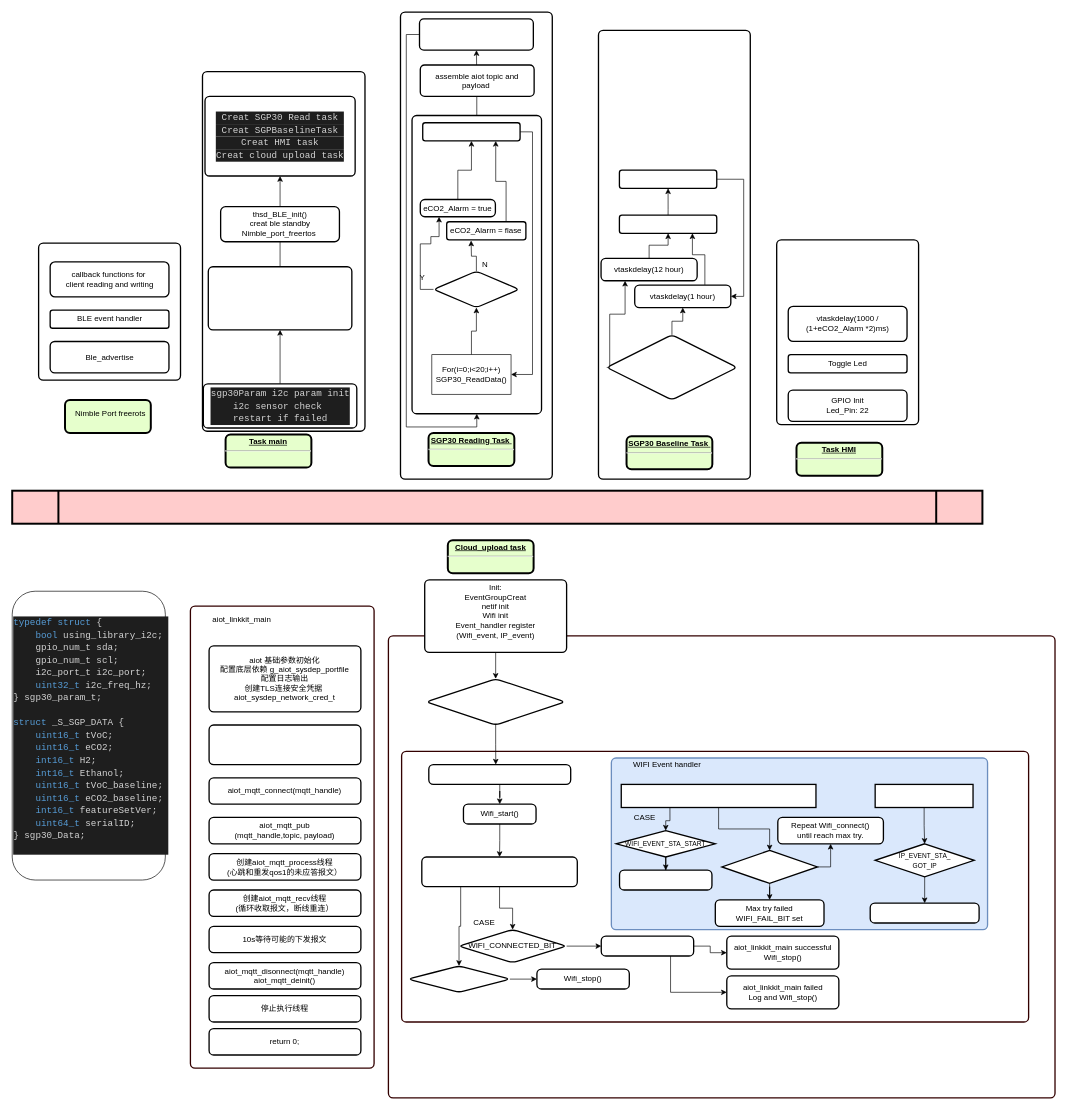
Some shapes in this 1067 by 1109 pixel diagram are drawn without their labels. Here are the shapes that lost their labels. From the top down, the centre of each, then its label:
(476,34): cloudUploadReadySemaphore Give
(471,131): vtaskdelay(1s)
(667,179): NVS save Baseline data
(667,224): i2c read Baseline data
(279,298): NVS load Baseline data tVocBase&eCO2Base SGO30_IAQ_Init i2c set baseline data
(476,289): eCO2 >1000
(671,367): First run? NVS check valid Baseline data available?
(497,506): SGP30
(495,701): Waiting cloudUploadReadySemaphore
(284,744): 创建 mqtt_handle 配置mqtt_handle (host, port, product_key,cred... etc. )
(499,774): Wifi_aiot_start()
(718,795): WIFI Event
(923,795): IP Event
(499,871): Waiting xEventGroupWaitBits
(665,879): Wifi_connect()
(769,866): WIFI_EVENT_STA_ DISCONNECTED
(924,912): WIFI_CONNECTED_BIT set
(647,945): aiot_linkkit_main()
(458,979): WIFI_FAIL_BIT
